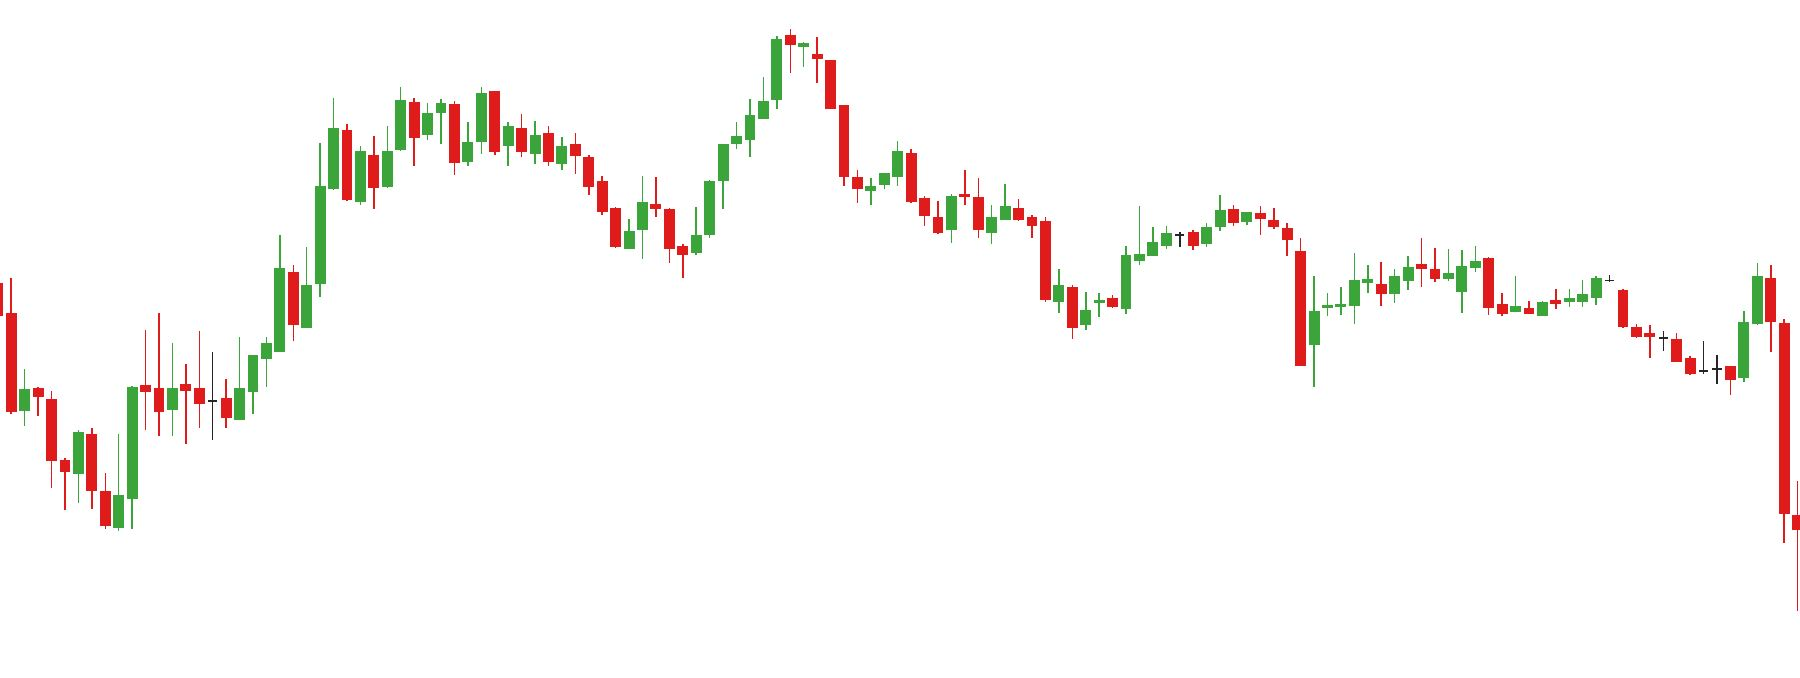sell: (1588, 264, 1780, 364)
